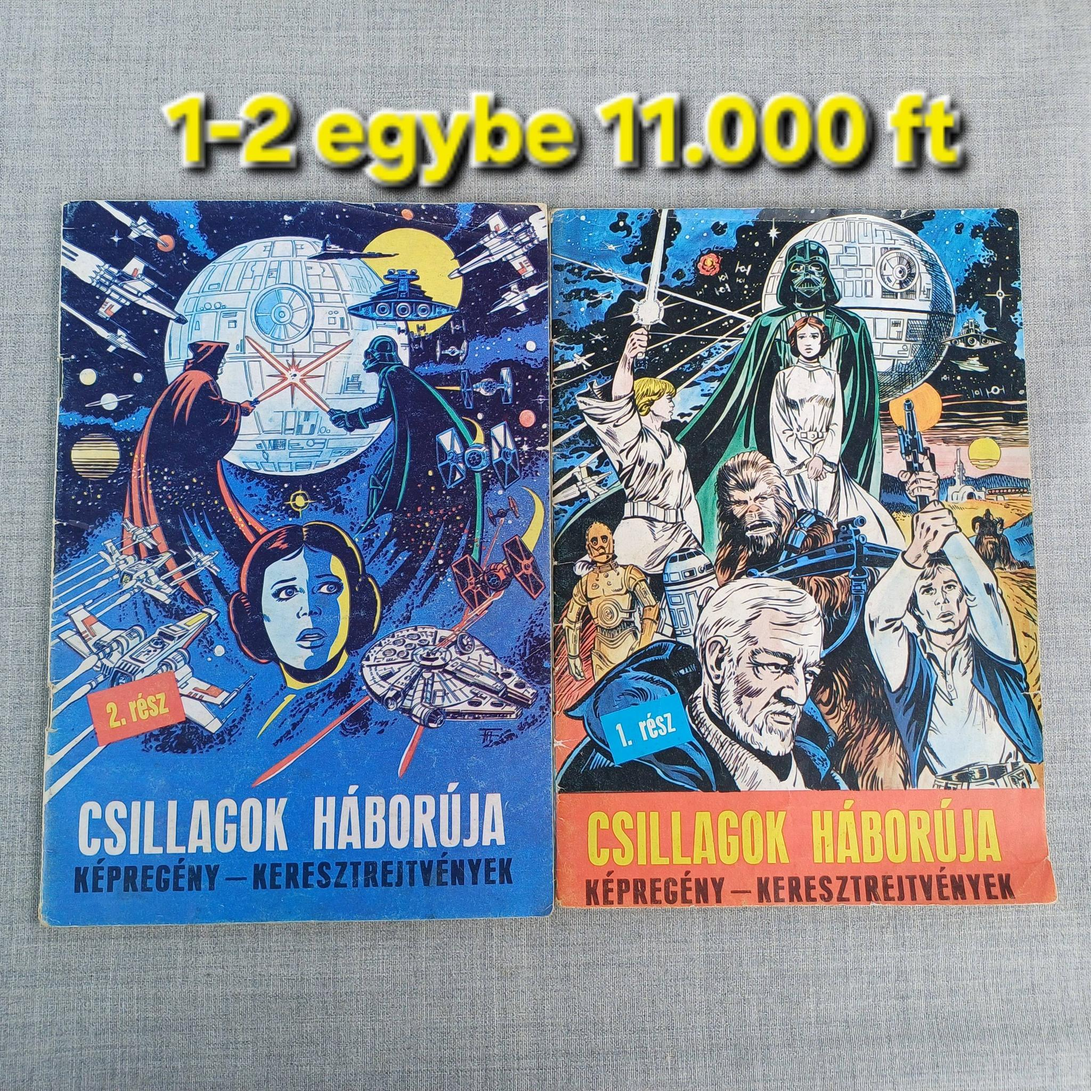comic: (39, 200, 553, 924), (545, 201, 1055, 910)
